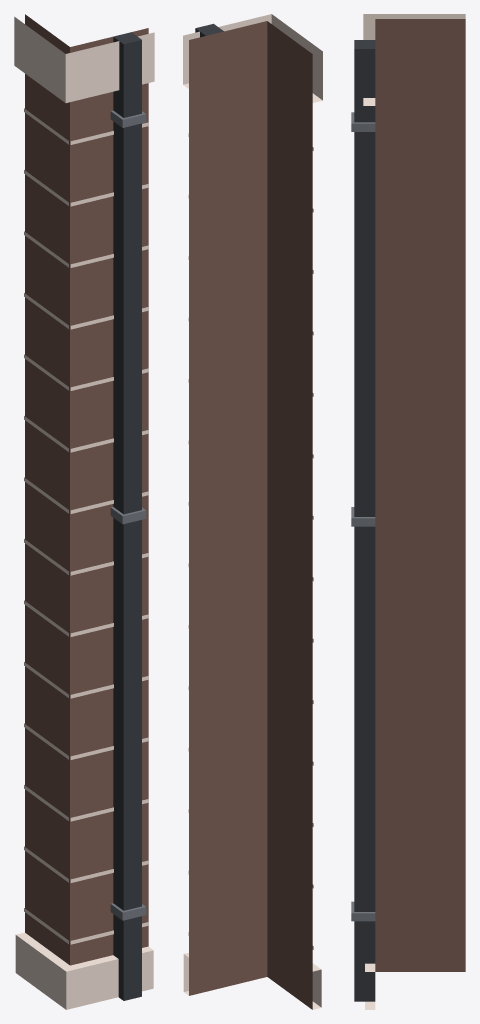
Rendered from mid-c1_close.fbx.
The picture shows the model from 3 angles, left to right: view 1: azimuth 30°, elevation 25°; view 2: azimuth 210°, elevation 25°; view 3: azimuth 270°, elevation 25°; orthographic projection.
Parts seen in each view (by area): view 1: a2000s3/600/mid-c1_close; view 2: a2000s3/600/mid-c1_close; view 3: a2000s3/600/mid-c1_close.
Part boxes in pixels (x1=…): a2000s3/600/mid-c1_close: x1=14, y1=14, x2=154, y2=1009; a2000s3/600/mid-c1_close: x1=183, y1=14, x2=322, y2=1009; a2000s3/600/mid-c1_close: x1=351, y1=14, x2=465, y2=1009.
Bounding box in the file's own units: 0.34 × 3.5 × 0.38.
